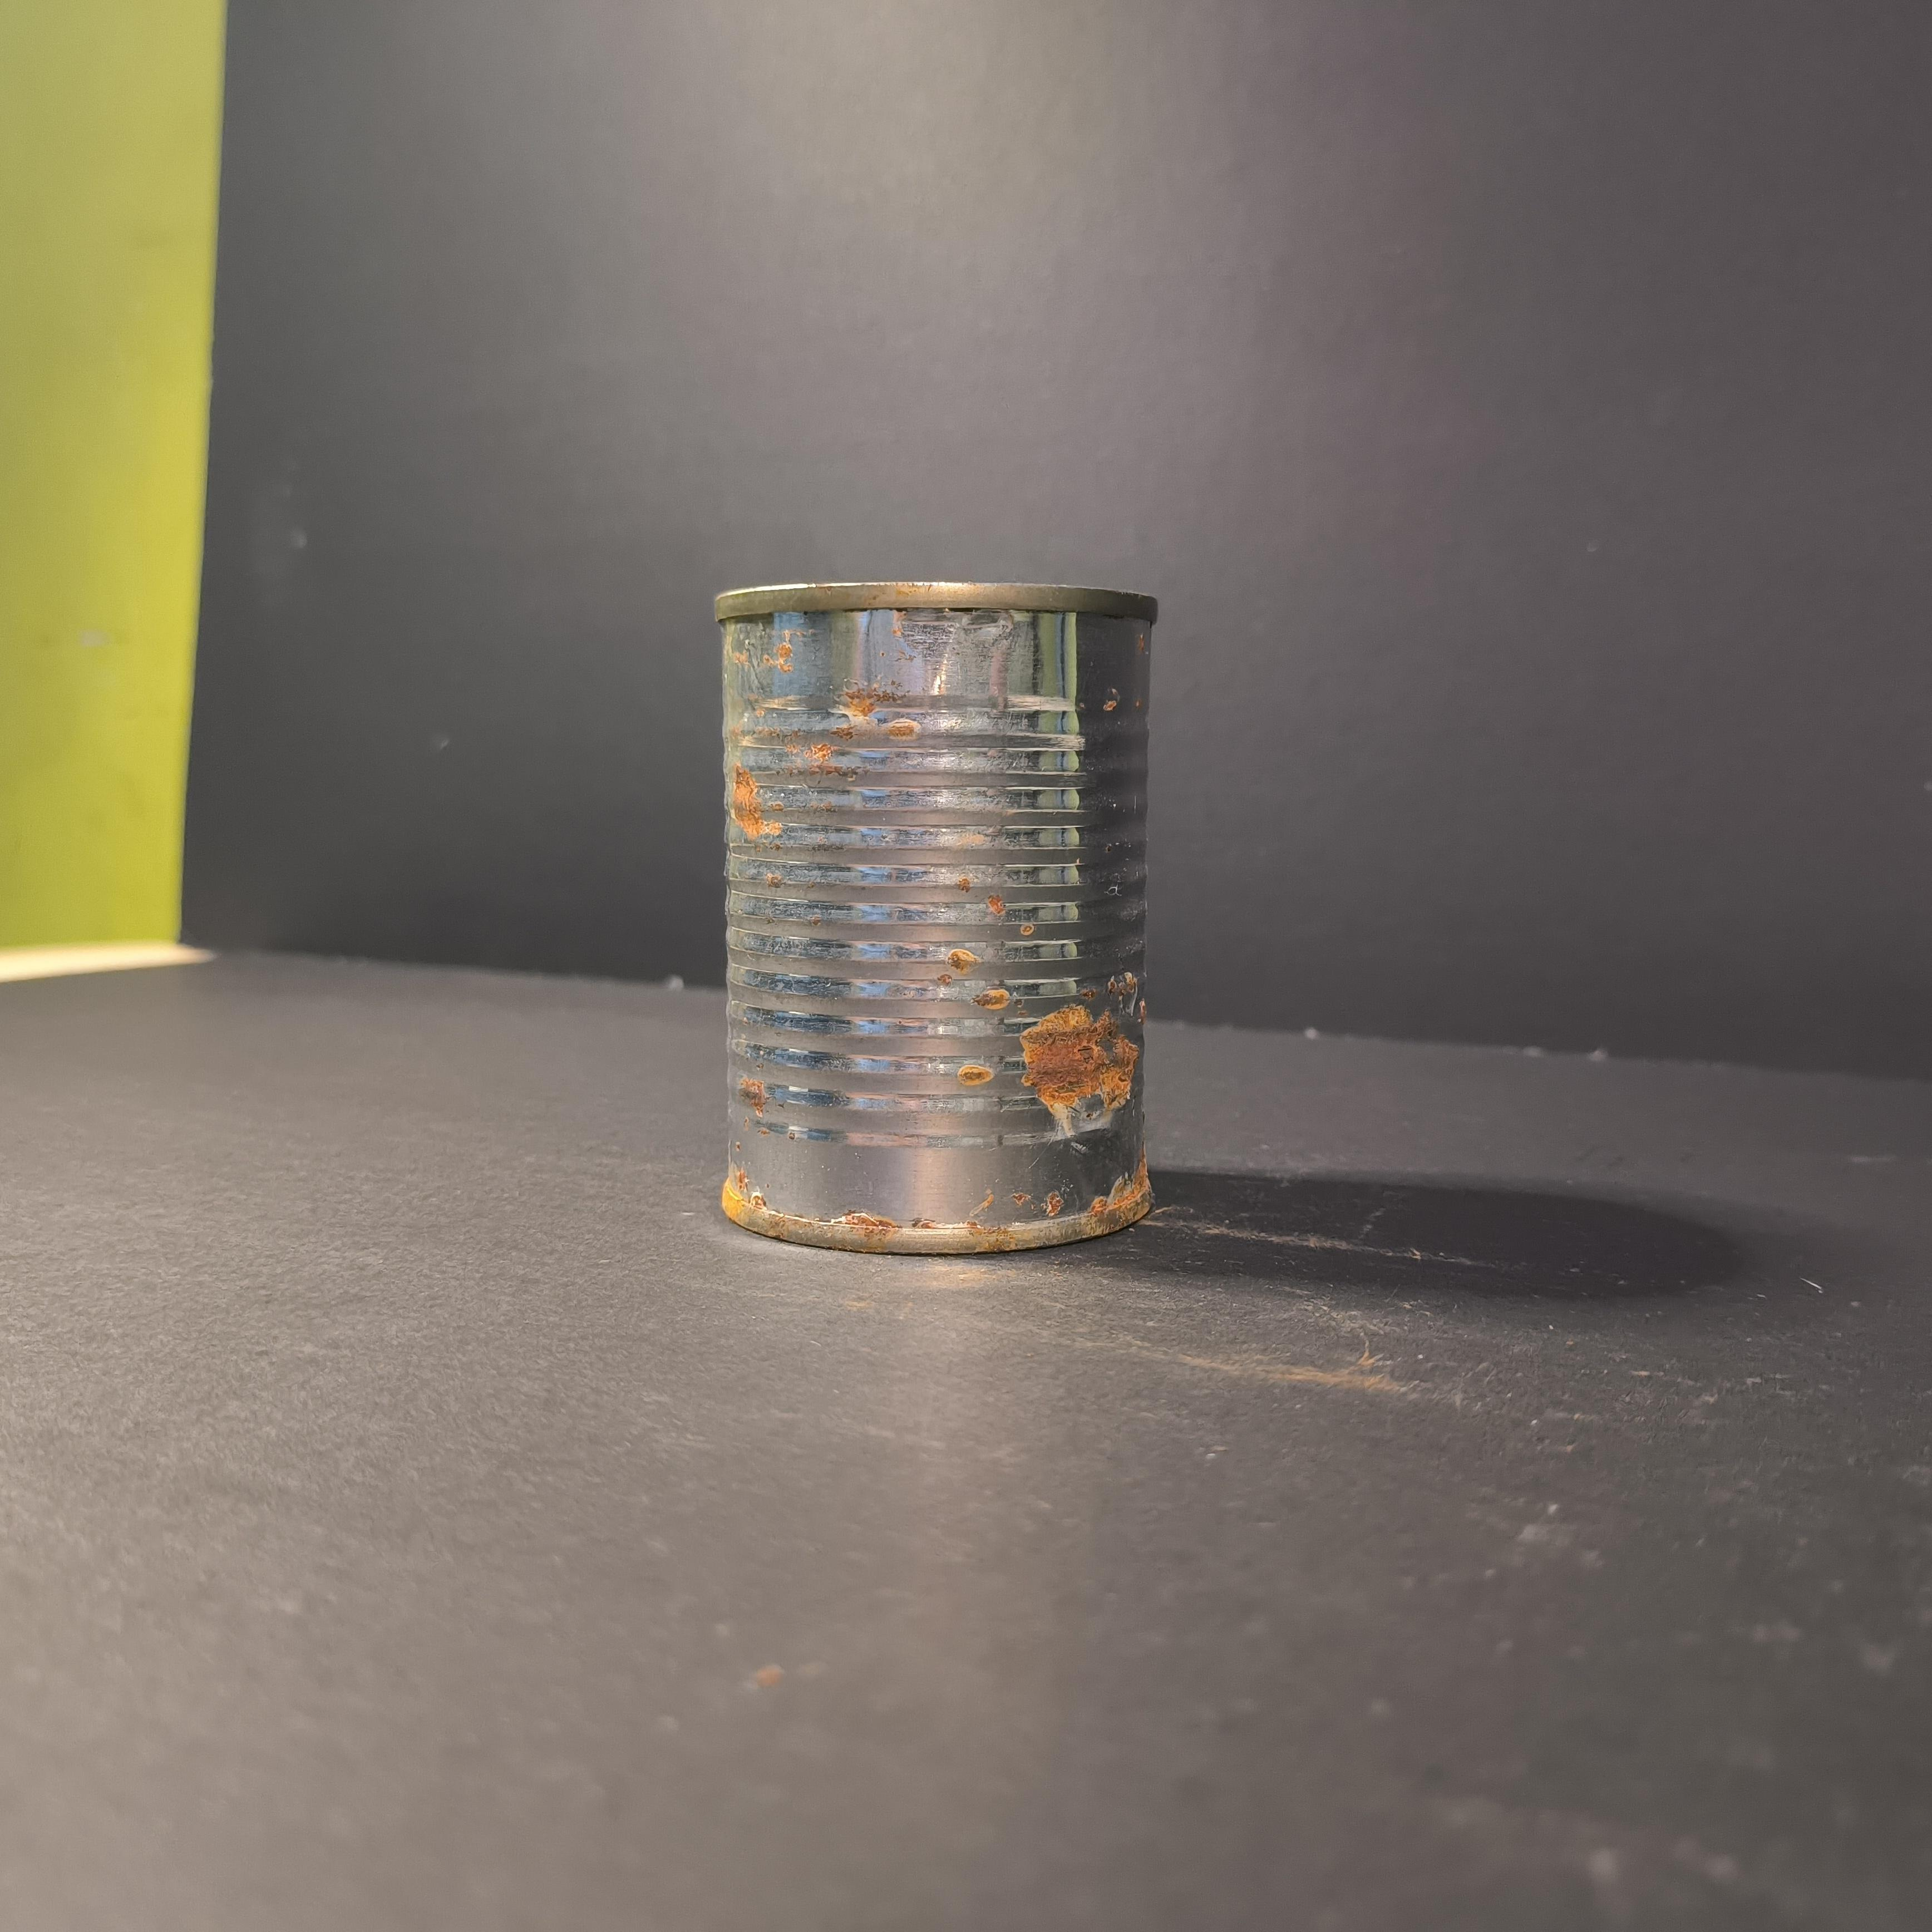Rusted: (690, 534, 1196, 1279)
